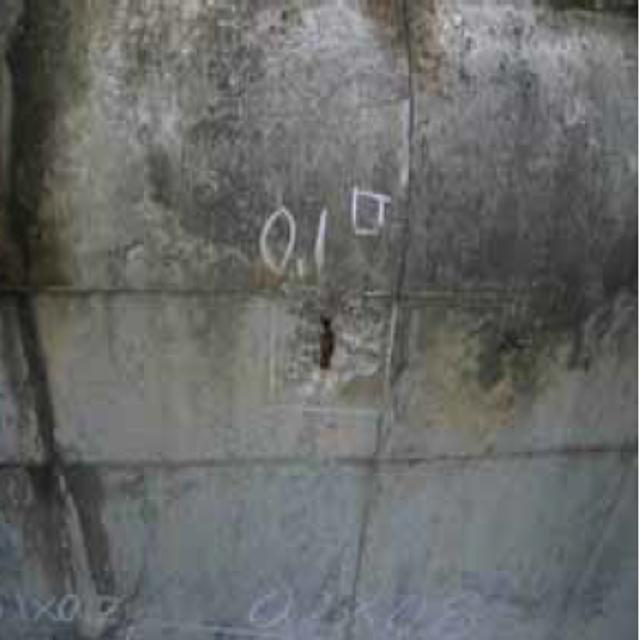spalling: (267, 270, 403, 419)
